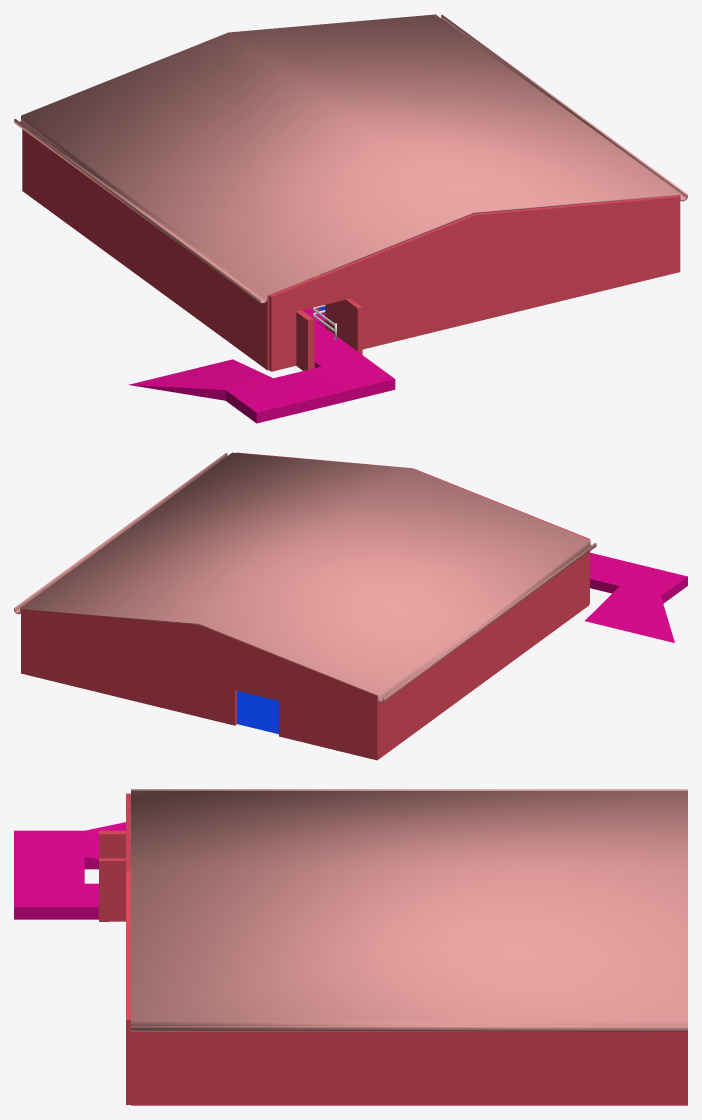
Rendered from Batiment traite.fbx.
The picture shows the model from 3 angles, top to bottom: view 1: azimuth 30°, elevation 25°; view 2: azimuth 150°, elevation 25°; view 3: azimuth 270°, elevation 25°; orthographic projection. The views are drawn at different scales.
Visible parts, largest first — view 1: Roof, Wall.004, Wall.002, Platform, Wall.001, CowWall; view 2: Roof, Wall.003, Wall.002, Platform, Floor, Wall.004; view 3: Roof, Wall.002, Platform, Wall.001, Wall.004, CowWall.
Boxes of the visible parts, <box> form: Roof: <box>14,14,687,303</box>; Wall.004: <box>269,195,680,371</box>; Wall.002: <box>22,129,679,370</box>; Platform: <box>128,289,395,423</box>; Wall.001: <box>325,298,362,354</box>; CowWall: <box>274,293,325,370</box>; Roof: <box>14,452,596,702</box>; Wall.003: <box>22,609,375,759</box>; Wall.002: <box>21,552,589,760</box>; Platform: <box>585,552,687,642</box>; Floor: <box>237,691,278,734</box>; Wall.004: <box>236,452,589,603</box>; Roof: <box>131,789,687,1031</box>; Wall.002: <box>131,1031,687,1105</box>; Platform: <box>14,822,125,919</box>; Wall.001: <box>99,858,125,921</box>; Wall.004: <box>126,793,130,1104</box>; CowWall: <box>99,830,125,858</box>.
Bounding box in the file's own units: 5205 × 997 × 4961.
